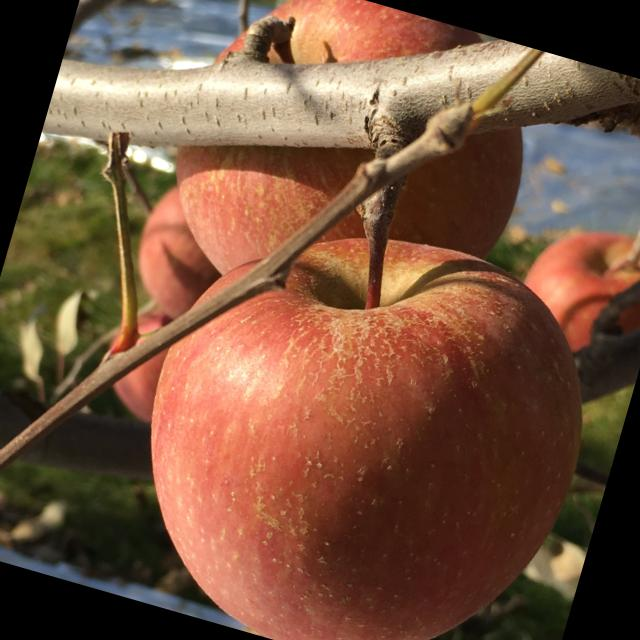fresh: (92, 171, 634, 640)
